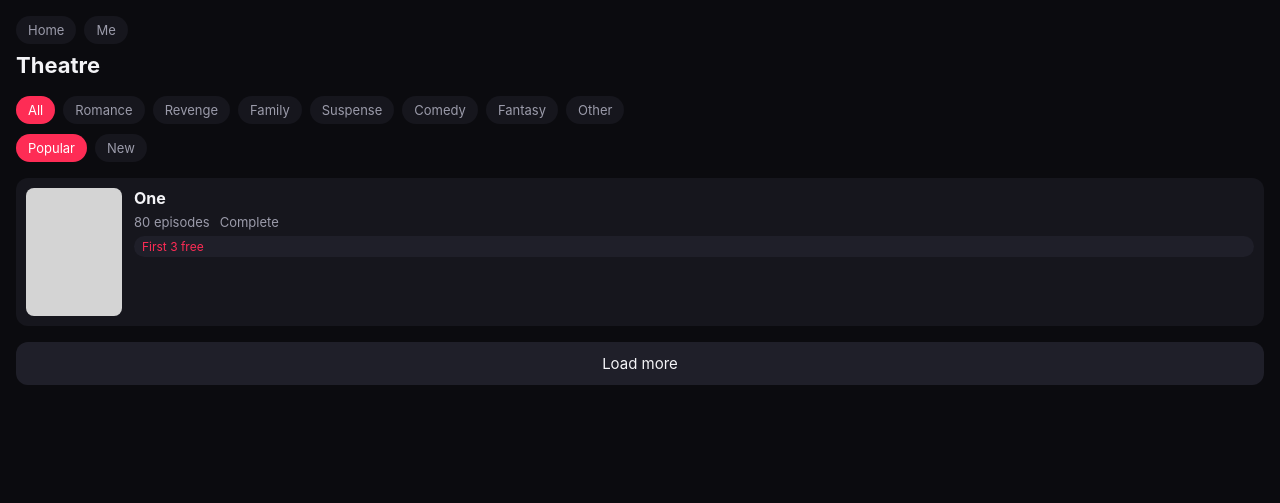
it: browse paging › appends the next page onto the cards already on screen
Click the button with test id "load-more".
click(640, 363)  # box [16,342,1264,384]
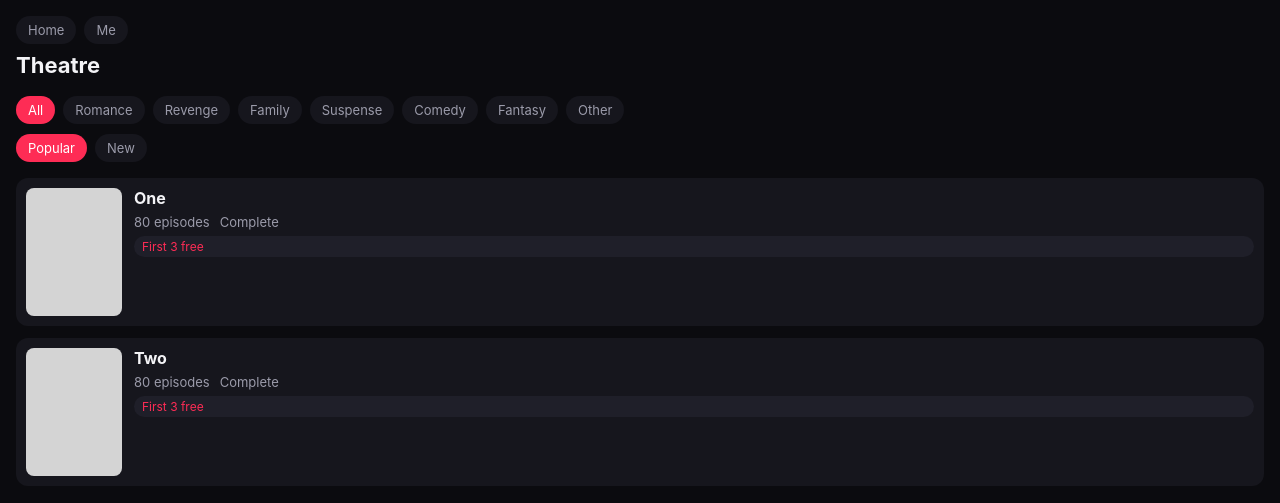
expect the number of list items with test id "browse-card" is 2: met, box [16,178,1264,326]; [16,338,1264,486]
expect the button with test id "load-more" is gone: met
